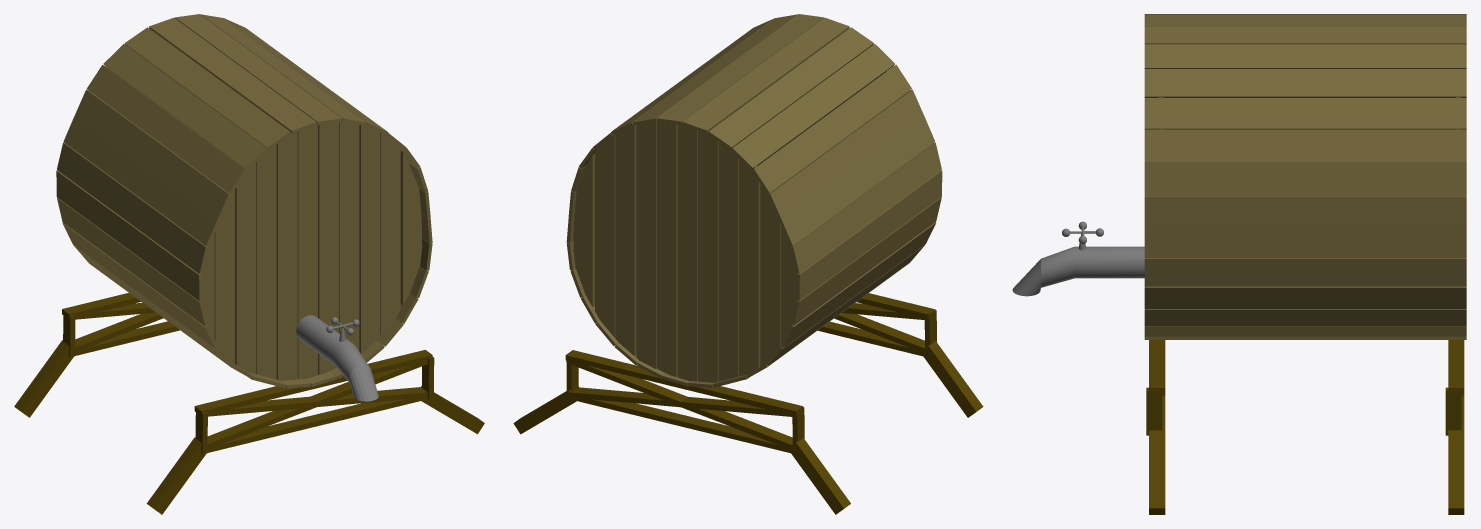
The model's file is BarilBiere.fbx.
3 renders of one model, left to right at view 1: azimuth 30°, elevation 25°; view 2: azimuth 150°, elevation 25°; view 3: azimuth 270°, elevation 25°, orthographic. The views are drawn at different scales.
Parts seen in each view (by area): view 1: pCube20, pCube31, pCube10, pCube9, pCube18, pCube15, pCube19, pCube35, pCube30, pCube32, pCube34, pCube33 (+25 smaller); view 2: pCube44, pCube20, pCube43, pCube10, pCube9, pCube42, pCube18, pCube45, pCube15, pCube19, pCube41, pCube46 (+24 smaller); view 3: pCube7 (×2), pCube6 (×2), pCube8 (×2), pCube5 (×2), pCube4, pCube3, pCube2, pCube1, pCylinder1, pCube21, pCube55, pCube61 (+6 smaller).
Part boxes in pixels (<box>): pCube20: <box>86,65,247,194</box>; pCube31: <box>276,132,297,380</box>; pCube10: <box>103,44,267,170</box>; pCube9: <box>75,89,231,220</box>; pCube18: <box>63,116,219,246</box>; pCube15: <box>124,27,291,149</box>; pCube19: <box>57,142,208,274</box>; pCube35: <box>359,125,380,353</box>; pCube30: <box>256,144,276,379</box>; pCube32: <box>297,125,317,379</box>; pCube34: <box>339,121,359,350</box>; pCube33: <box>318,122,338,374</box>; pCube44: <box>656,121,677,376</box>; pCube20: <box>751,64,911,194</box>; pCube43: <box>677,124,697,381</box>; pCube10: <box>731,44,894,169</box>; pCube9: <box>767,89,923,220</box>; pCube42: <box>698,130,718,382</box>; pCube18: <box>779,115,934,246</box>; pCube45: <box>636,122,656,368</box>; pCube15: <box>708,27,873,149</box>; pCube19: <box>790,142,941,273</box>; pCube41: <box>718,142,738,381</box>; pCube46: <box>615,125,636,356</box>; pCube7 (×2): <box>1144,69,1466,227</box>; pCube6 (×2): <box>1144,44,1466,195</box>; pCube8 (×2): <box>1144,26,1466,162</box>; pCube5 (×2): <box>1144,15,1466,129</box>; pCube4: <box>1144,227,1466,258</box>; pCube3: <box>1144,258,1466,286</box>; pCube2: <box>1144,286,1466,309</box>; pCube1: <box>1144,309,1466,326</box>; pCylinder1: <box>1012,246,1144,296</box>; pCube21: <box>1144,326,1466,336</box>; pCube55: <box>1149,425,1165,514</box>; pCube61: <box>1448,425,1464,514</box>.
Bounding box in the file's own units: 26.89 × 27.71 × 28.28.
